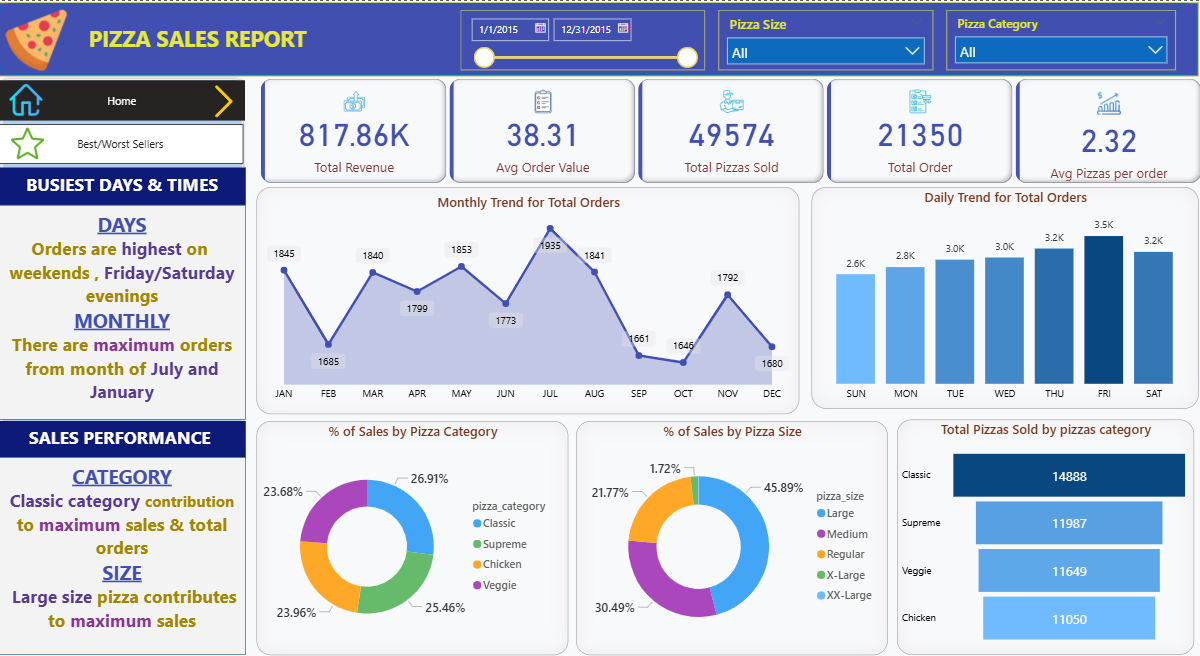

Layout of this report page (visuals, bound fields, positions):
{"tool":"powerbi","page":{"name":"Home","canvas":[1500,820],"ordinal":0},"visuals":[{"type":"cardVisual","fields":{"Data":["public pizza_sales.Total Revenu","public pizza_sales.Avg Order Value","public pizza_sales.Total Pizzas Sold","public pizza_sales.Total Order","public pizza_sales.Avg Pizzas per order"]},"box":[330.1,90.4,1169.2,138.3],"z":0},{"type":"shape","box":[12.9,1.8,1475.3,90.4],"z":1000},{"type":"textbox","box":[101.9,22.2,313,51.9],"z":2000},{"type":"image","box":[0,3.7,118.5,88.9],"z":3000},{"type":"slicer","fields":{"Values":["public pizza_sales.pizza_category"]},"box":[1178.4,11.1,282.2,73.8],"z":4000},{"type":"slicer","fields":{"Values":["public pizza_sales.pizza_size"]},"box":[898.1,11.1,263.7,73.8],"z":5000},{"type":"columnChart","title":"Daily Trend for Total Orders","fields":{"Category":["public pizza_sales.ORDER DAYS"],"Y":["public pizza_sales.Total Order"]},"box":[1012.4,228.7,475.8,272.9],"z":6000},{"type":"areaChart","title":"Monthly Trend for Total Orders","fields":{"Category":["public pizza_sales.OrderMonth"],"Y":["public pizza_sales.Total Order"]},"box":[330.1,228.7,667.6,279],"z":7000},{"type":"donutChart","title":"% of Sales by Pizza Category","fields":{"Category":["public pizza_sales.pizza_category"],"Y":["public pizza_sales.Total Revenu"]},"box":[330.1,516.4,383.6,287.7],"z":8000},{"type":"shape","box":[12.9,92.2,304.3,711.8],"z":9000},{"type":"donutChart","title":"% of Sales by Pizza Size","fields":{"Category":["public pizza_sales.pizza_size"],"Y":["public pizza_sales.Total Revenu"]},"box":[722.9,516.4,383.6,287.7],"z":10000},{"type":"funnel","title":"Total Pizzas Sold by pizzas category","fields":{"Category":["public pizza_sales.pizza_category"],"Y":["public pizza_sales.Total Pizzas Sold"]},"box":[1117.5,514.5,365.1,289.5],"z":11000},{"type":"textbox","box":[12.9,204.7,304.3,46.1],"z":12000},{"type":"textbox","box":[12.9,250.8,304.3,263.7],"z":13000},{"type":"textbox","box":[12.9,516.4,304.3,46.1],"z":14000},{"type":"textbox","box":[12.9,560.6,304.3,243.4],"z":15000},{"type":"slicer","fields":{"Values":["public pizza_sales.order_date"]},"box":[580.9,11.1,300.6,73.8],"z":16000},{"type":"pageNavigator","box":[13.2,98.1,303.8,49.1],"z":17000},{"type":"pageNavigator","box":[11.3,150.9,303.8,49.1],"z":18000},{"type":"image","box":[186.8,98.1,207.5,50.9],"z":19000},{"type":"image","box":[11.3,96.2,71.7,50.9],"z":19001},{"type":"image","box":[13.2,149.1,71.7,50.9],"z":19002}]}

Visuals, with their boxes in screenshot pixels (x1, y1, x2, y2), scaled from the page's 1500x820 canvas onto the 1200x656 screenshot:
cardVisual - public pizza_sales.Total Revenu x public pizza_sales.Avg Order Value: [left=264, top=72, right=1199, bottom=183]
shape: [left=10, top=1, right=1191, bottom=74]
textbox: [left=82, top=18, right=332, bottom=59]
image: [left=0, top=3, right=95, bottom=74]
slicer - public pizza_sales.pizza_category: [left=943, top=9, right=1168, bottom=68]
slicer - public pizza_sales.pizza_size: [left=718, top=9, right=929, bottom=68]
"Daily Trend for Total Orders" columnChart: [left=810, top=183, right=1191, bottom=401]
"Monthly Trend for Total Orders" areaChart: [left=264, top=183, right=798, bottom=406]
"% of Sales by Pizza Category" donutChart: [left=264, top=413, right=571, bottom=643]
shape: [left=10, top=74, right=254, bottom=643]
"% of Sales by Pizza Size" donutChart: [left=578, top=413, right=885, bottom=643]
"Total Pizzas Sold by pizzas category" funnel: [left=894, top=412, right=1186, bottom=643]
textbox: [left=10, top=164, right=254, bottom=201]
textbox: [left=10, top=201, right=254, bottom=412]
textbox: [left=10, top=413, right=254, bottom=450]
textbox: [left=10, top=448, right=254, bottom=643]
slicer - public pizza_sales.order_date: [left=465, top=9, right=705, bottom=68]
pageNavigator: [left=11, top=78, right=254, bottom=118]
pageNavigator: [left=9, top=121, right=252, bottom=160]
image: [left=149, top=78, right=315, bottom=119]
image: [left=9, top=77, right=66, bottom=118]
image: [left=11, top=119, right=68, bottom=160]
